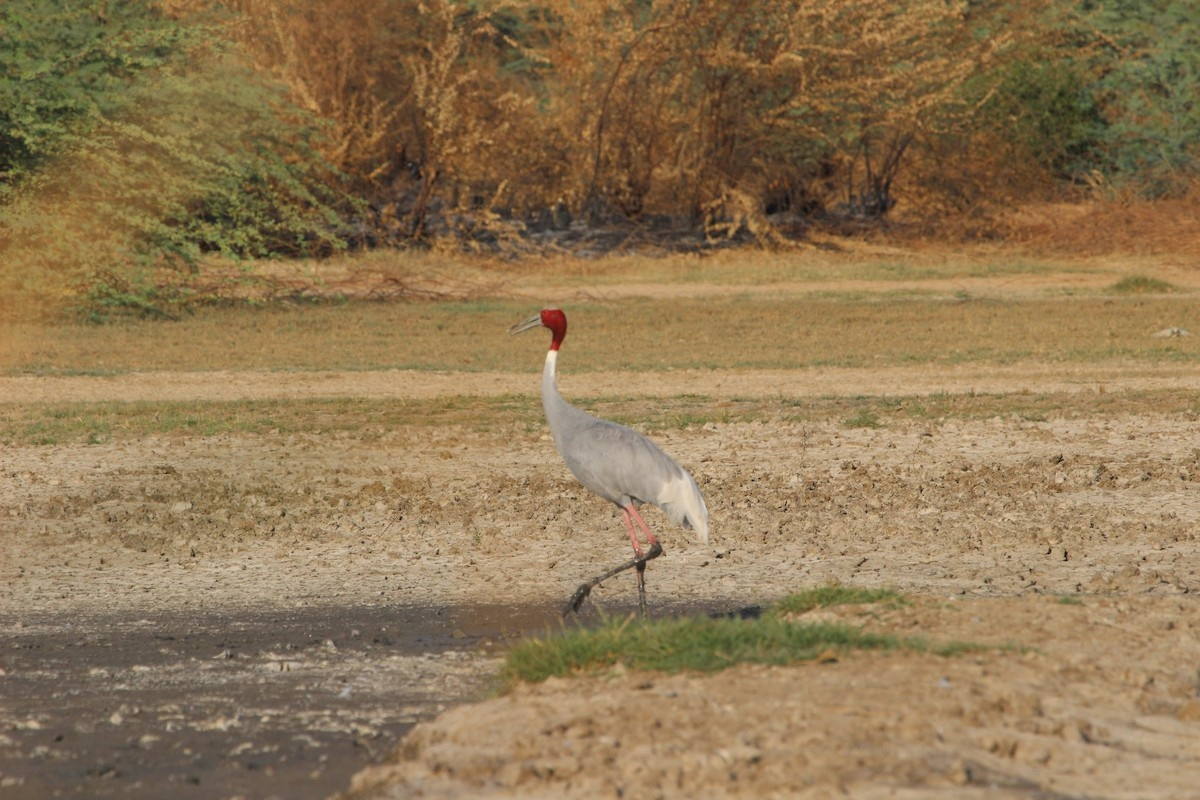crane: (512, 308, 719, 610)
